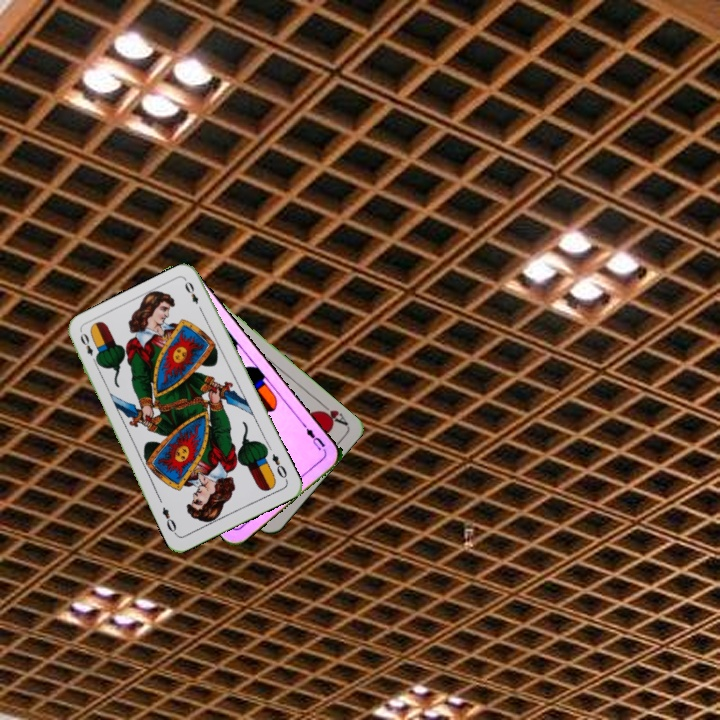EO: (76, 329, 100, 367), (268, 450, 290, 484)
EU: (299, 420, 328, 453)
HA: (314, 398, 350, 428)
